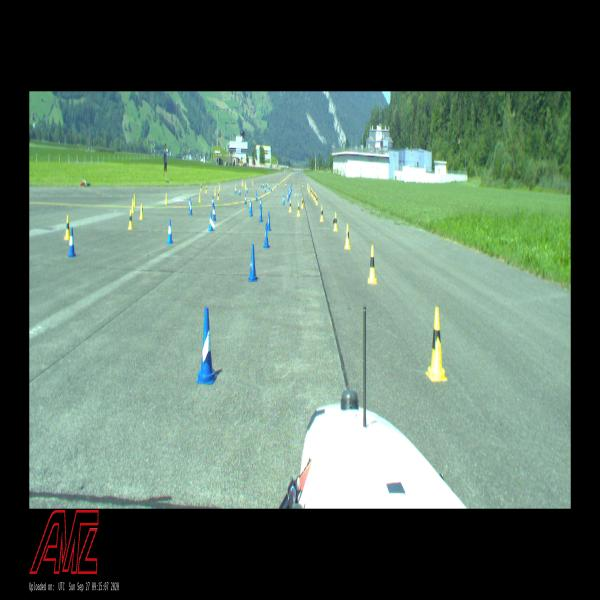blue_cone: (196, 306, 217, 385), (248, 244, 258, 282), (67, 228, 76, 257), (166, 219, 172, 244), (264, 223, 269, 248), (209, 211, 213, 231), (268, 212, 272, 231), (259, 205, 263, 222), (212, 206, 216, 221), (190, 201, 193, 215), (259, 198, 262, 208), (282, 195, 285, 205), (250, 202, 252, 217), (249, 199, 251, 211), (212, 196, 214, 207), (287, 193, 289, 202), (238, 188, 240, 195), (189, 198, 190, 209), (245, 194, 246, 204), (276, 182, 278, 186), (235, 186, 236, 194), (256, 193, 257, 201), (271, 186, 272, 192), (266, 181, 267, 187), (247, 187, 248, 193), (263, 183, 264, 188), (265, 188, 266, 192), (261, 183, 262, 187), (269, 185, 270, 189), (286, 183, 287, 187)
yellow_cone: (426, 306, 447, 381), (368, 245, 377, 284), (344, 223, 351, 249), (65, 216, 70, 240), (128, 210, 133, 230), (333, 212, 338, 231), (139, 203, 144, 220), (320, 206, 324, 222), (131, 198, 135, 214), (296, 202, 300, 217), (164, 193, 168, 204), (133, 193, 136, 207), (289, 200, 292, 212), (301, 197, 304, 209), (198, 192, 201, 203), (217, 190, 219, 200), (316, 195, 318, 205), (313, 192, 315, 200), (206, 185, 208, 193), (235, 183, 237, 190), (219, 183, 221, 190), (214, 188, 216, 195), (245, 183, 247, 189), (242, 181, 244, 187), (302, 182, 304, 187), (315, 192, 316, 202), (252, 181, 254, 185), (312, 190, 313, 198), (201, 184, 202, 191), (309, 187, 310, 194), (311, 189, 312, 196), (245, 182, 246, 188), (241, 181, 242, 186), (268, 181, 268, 185)
